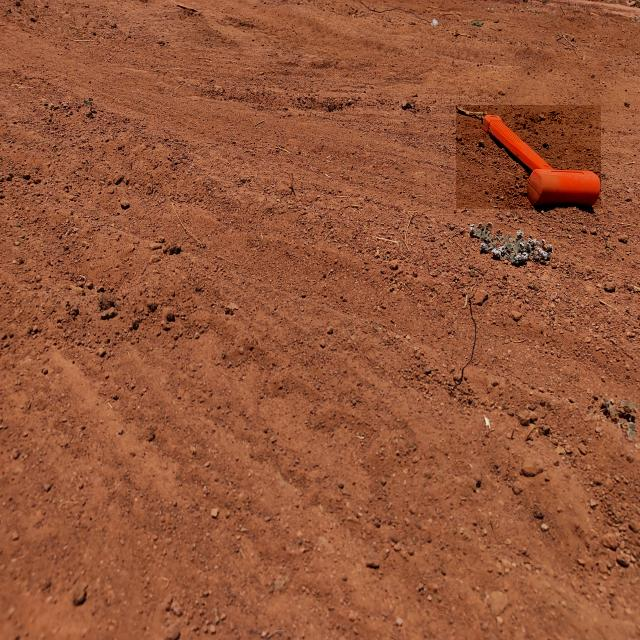Orange_hammer: (456, 106, 601, 210)
